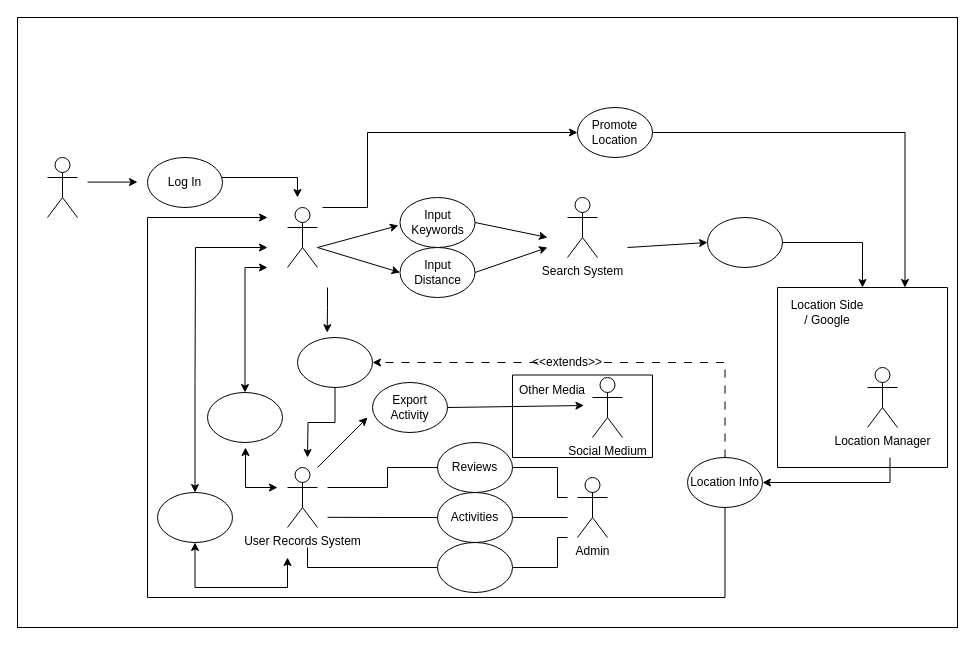
Image size: 975x645. Some labels were removed from this diagram. The shapes that lost their labels are listed below. From the top down, each one's centre as x and y in pixels, then its label:
At (x=62, y=187): "User".
At (x=302, y=237): "User Profile".
At (x=744, y=242): "Get Location(s)".
At (x=334, y=362): "Update User Information".
At (x=244, y=417): "View Records".
At (x=194, y=517): "Give Recommen-dation".
At (x=474, y=567): "Events".
